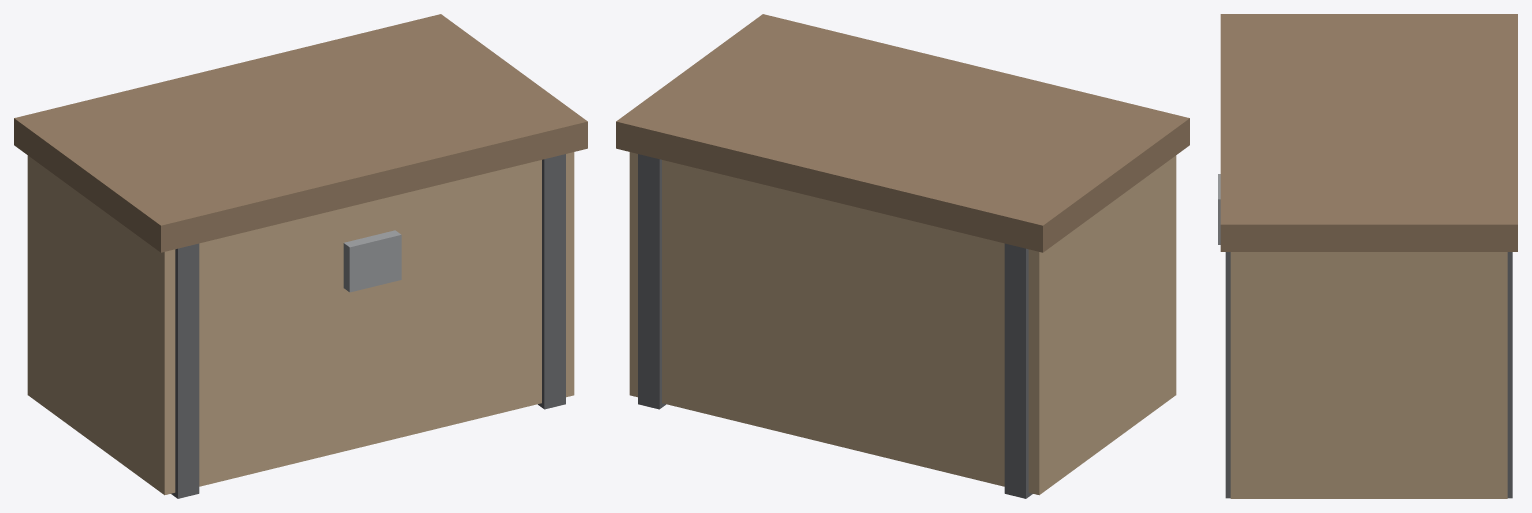
File: deploy_box.glb
3 views of the same model, side by side, from view 1: azimuth 30°, elevation 25°; view 2: azimuth 150°, elevation 25°; view 3: azimuth 270°, elevation 25° (orthographic).
Visible parts, largest first — view 1: deploy_box; view 2: deploy_box; view 3: deploy_box.
Boxes of the visible parts, bbox=[...] form: deploy_box: bbox=[14, 14, 587, 498]; deploy_box: bbox=[616, 14, 1189, 498]; deploy_box: bbox=[1218, 14, 1517, 498].
Size of the model in its own units: 0.99 by 0.62 by 0.595.
